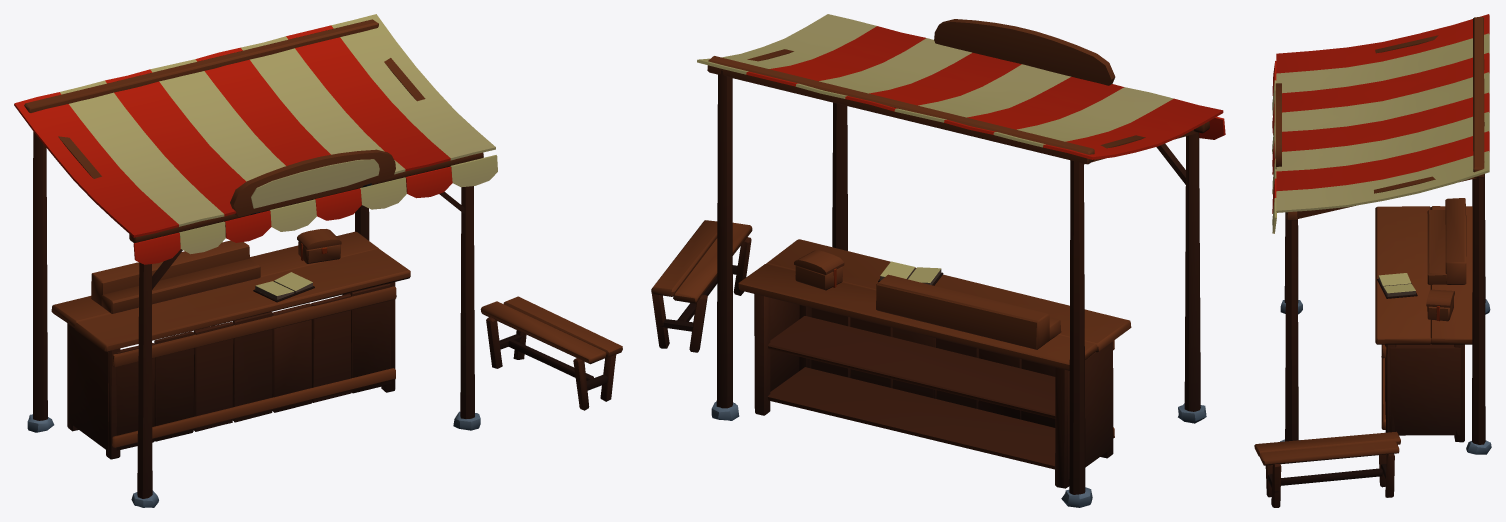
The model's file is Atolye_Pazar.fbx.
The picture shows the model from 3 angles, left to right: view 1: azimuth 30°, elevation 25°; view 2: azimuth 150°, elevation 25°; view 3: azimuth 270°, elevation 25°; orthographic projection. The views are drawn at different scales.
Visible parts, largest first — view 1: SM_Pazar_Tente, SM_Pazar_Tezgah, SM_Bekleme_Oturak; view 2: SM_Pazar_Tente, SM_Pazar_Tezgah, SM_Bekleme_Oturak; view 3: SM_Pazar_Tente, SM_Pazar_Tezgah, SM_Bekleme_Oturak.
Boxes of the visible parts, left/top/right/bottom form: SM_Pazar_Tente: left=14, top=14, right=497, bottom=507; SM_Pazar_Tezgah: left=51, top=229, right=410, bottom=459; SM_Bekleme_Oturak: left=480, top=296, right=622, bottom=410; SM_Pazar_Tente: left=697, top=14, right=1225, bottom=507; SM_Pazar_Tezgah: left=738, top=239, right=1131, bottom=488; SM_Bekleme_Oturak: left=651, top=220, right=752, bottom=352; SM_Pazar_Tente: left=1272, top=14, right=1491, bottom=454; SM_Pazar_Tezgah: left=1375, top=198, right=1472, bottom=442; SM_Bekleme_Oturak: left=1254, top=431, right=1400, bottom=507.
Size of the model in its own units: 3.89 by 2.51 by 1.86.
